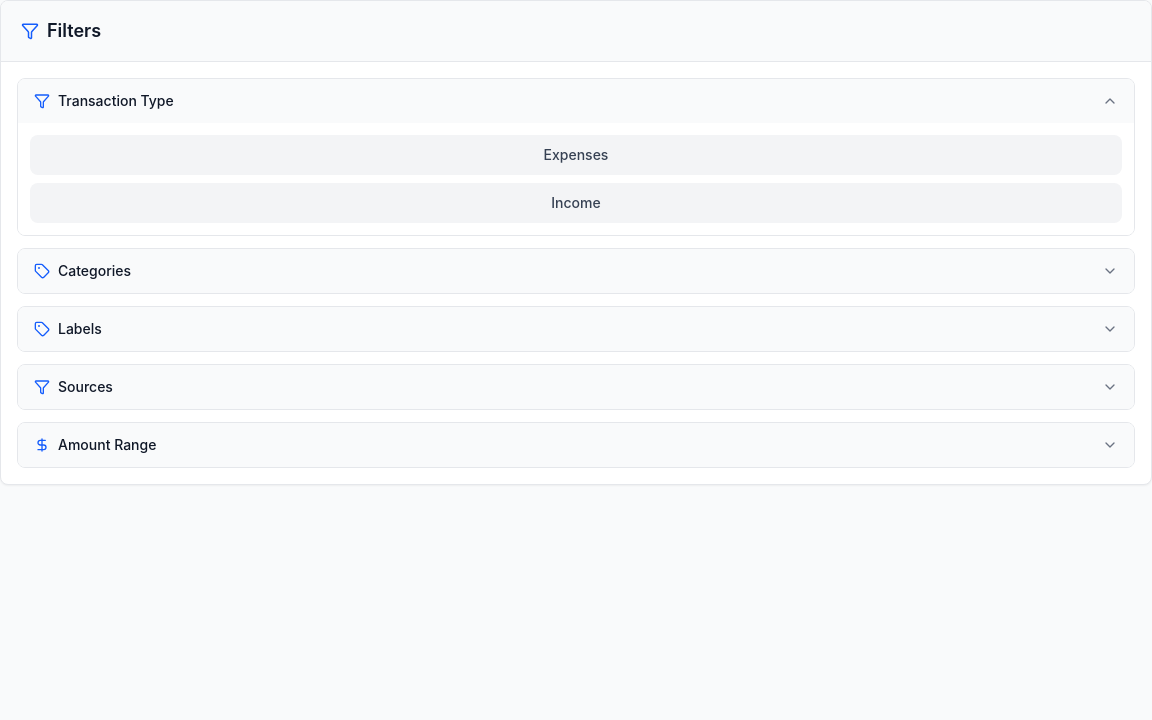
Test: TransactionFiltersComponent › Compact mode (isCompact=true) › toggles section expansion when clicking section header
Expected: the button "Expenses" is shown, [30,135,1122,175]
Expected: the button "Income" is shown, [30,183,1122,223]
// Expand categories
Click the button "Categories" at (95, 270), box [18,249,1134,293]
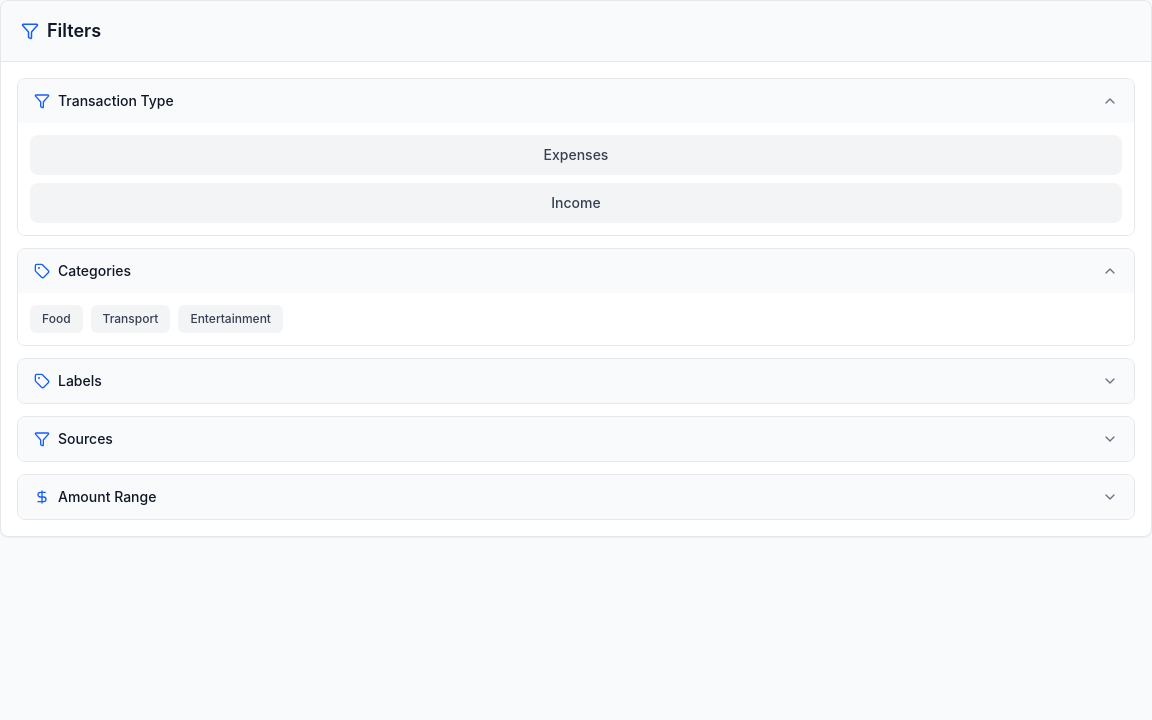
Expected: the button "Food" is shown, [30,305,83,333]
Expected: the button "Transport" is shown, [91,305,170,333]
Expected: the button "Entertainment" is shown, [178,305,283,333]
// Collapse categories
Click the button "Categories" at (95, 270), box [18,249,1134,293]
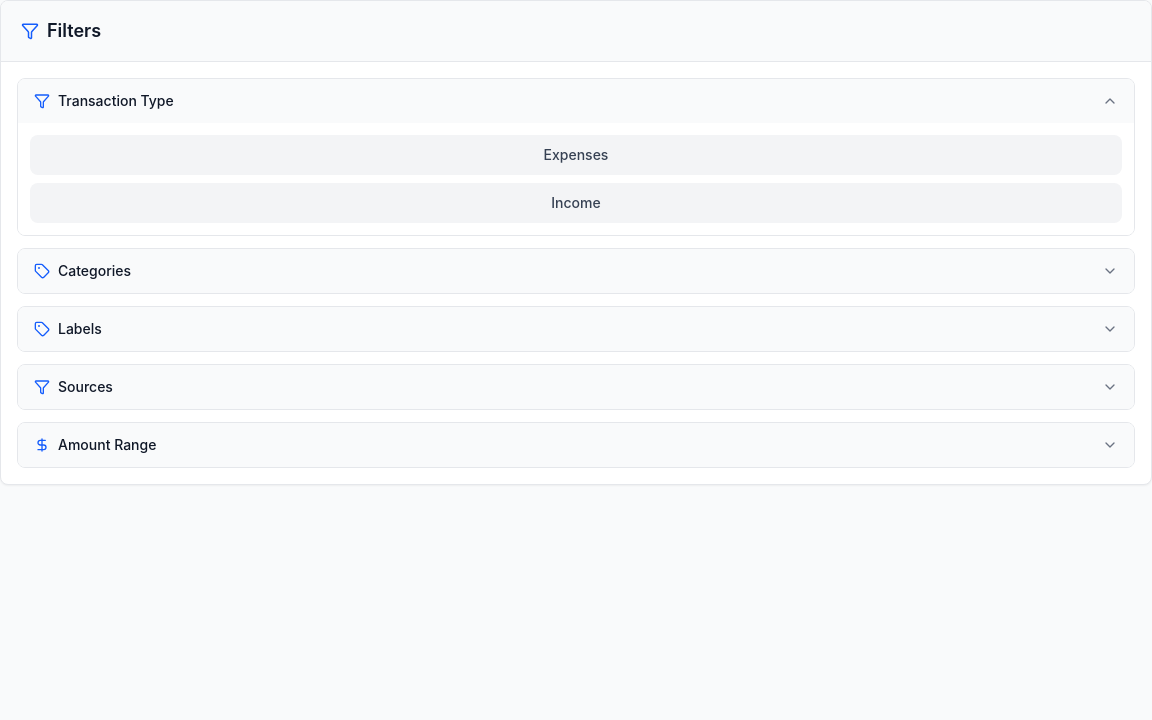
Expected: the button "Food" is gone
